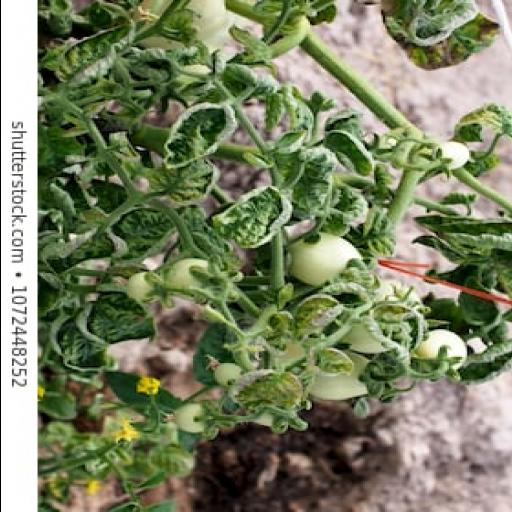Yellow Leaf Curl Virus: (44, 19, 146, 93), (212, 180, 290, 254), (70, 288, 168, 346), (161, 102, 238, 172), (99, 208, 175, 264), (212, 370, 306, 412), (286, 290, 348, 348), (309, 186, 375, 238), (296, 150, 340, 224), (162, 152, 218, 205), (318, 132, 378, 177), (306, 346, 354, 378)
